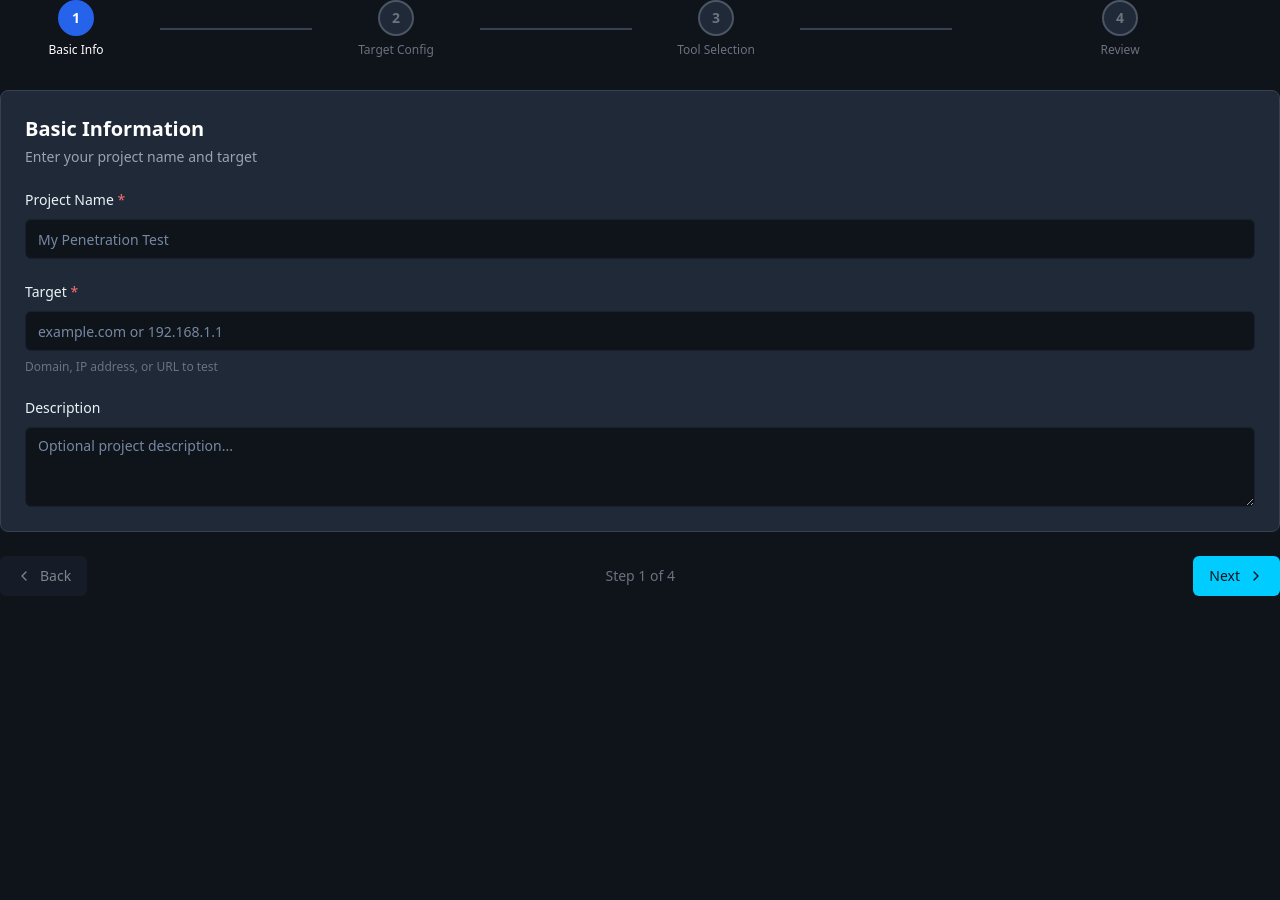
ProjectWizard › shows Back button from step 2 onwards
Type "My Project" into the field labelled "Project Name *" at (640, 239), box left=25, top=219, right=1255, bottom=259
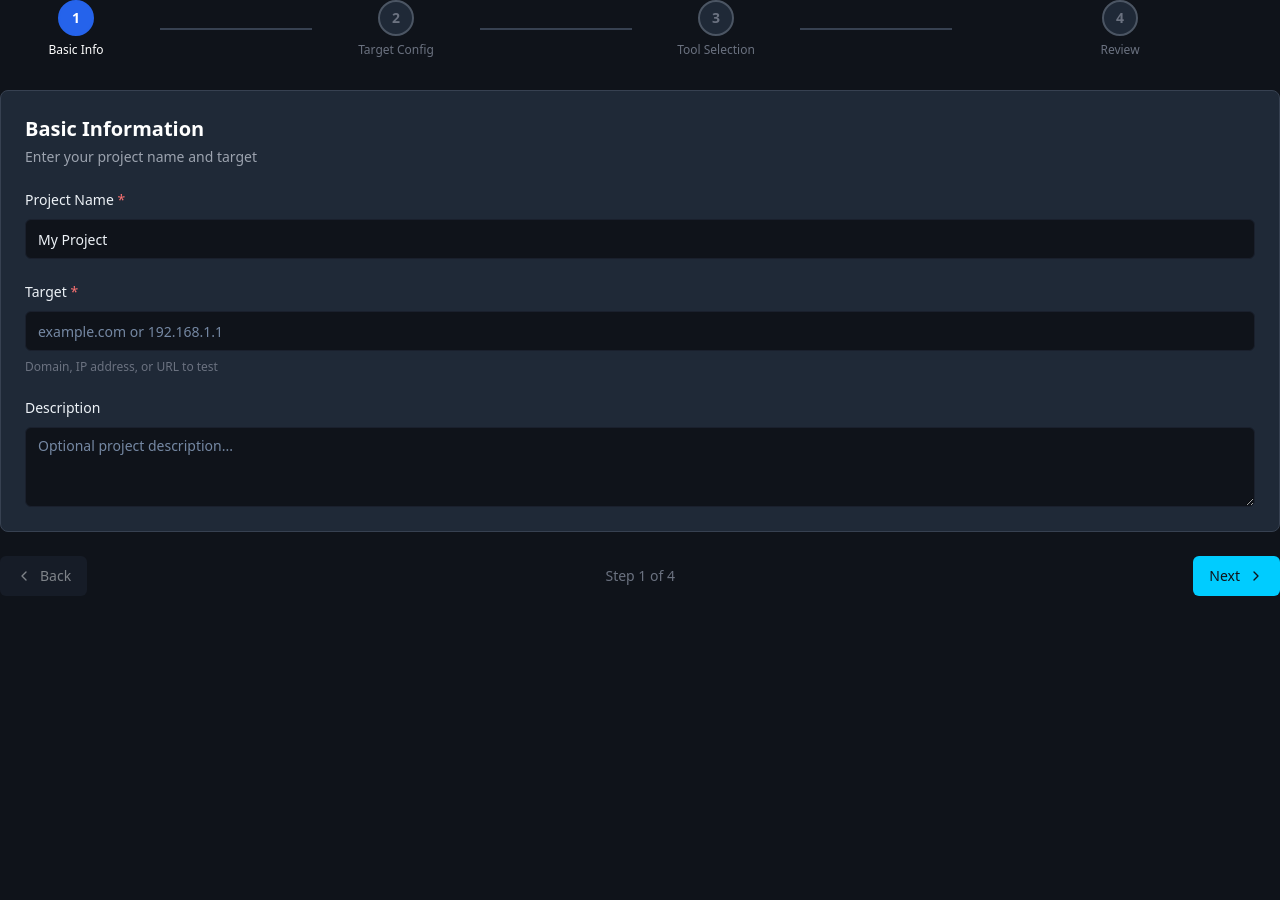
Type "example.com" into the field labelled "Target *" at (640, 331), box left=25, top=311, right=1255, bottom=351
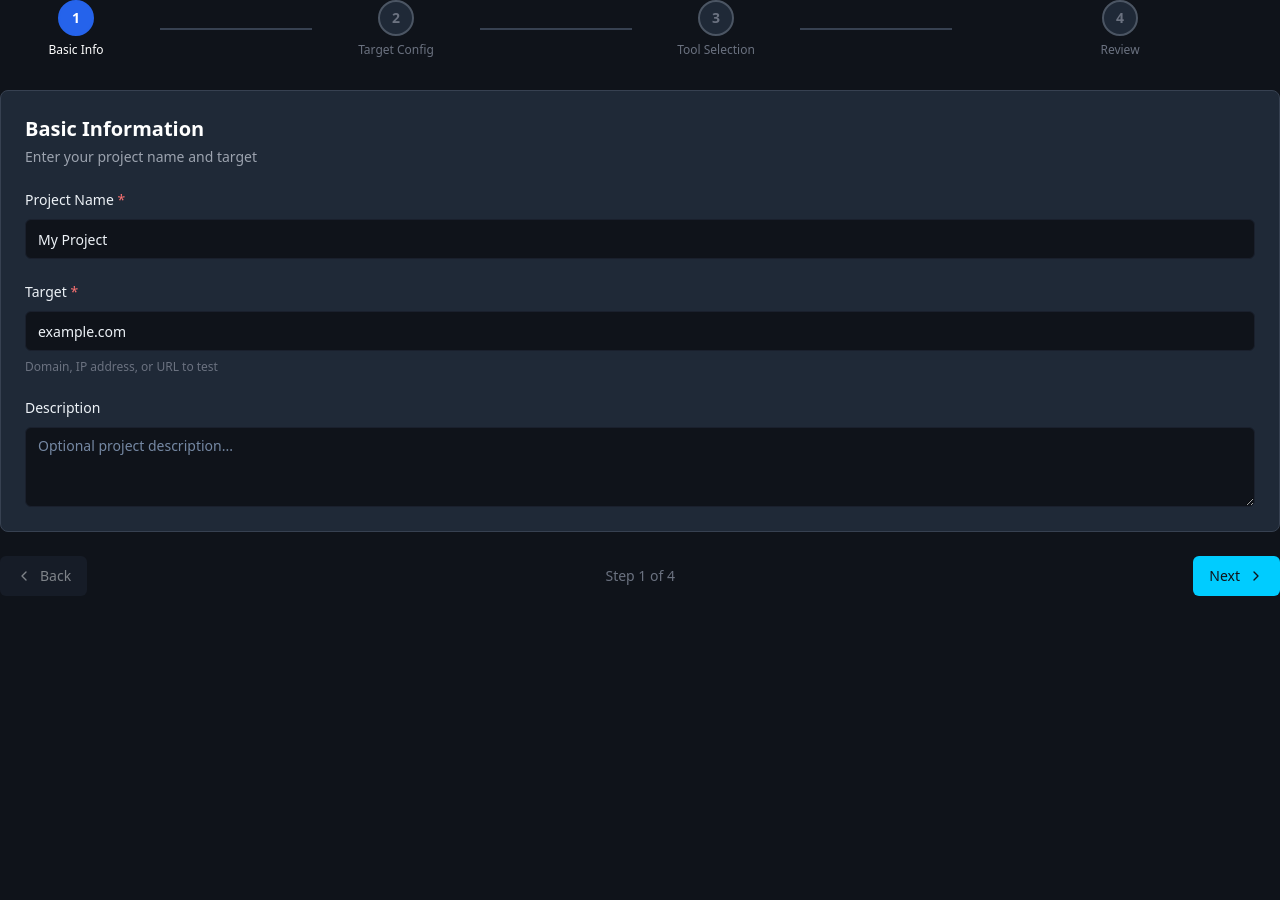
Click the button with aria-label "go to next step" at (1237, 576), box left=1193, top=556, right=1279, bottom=596
(page scrolled)
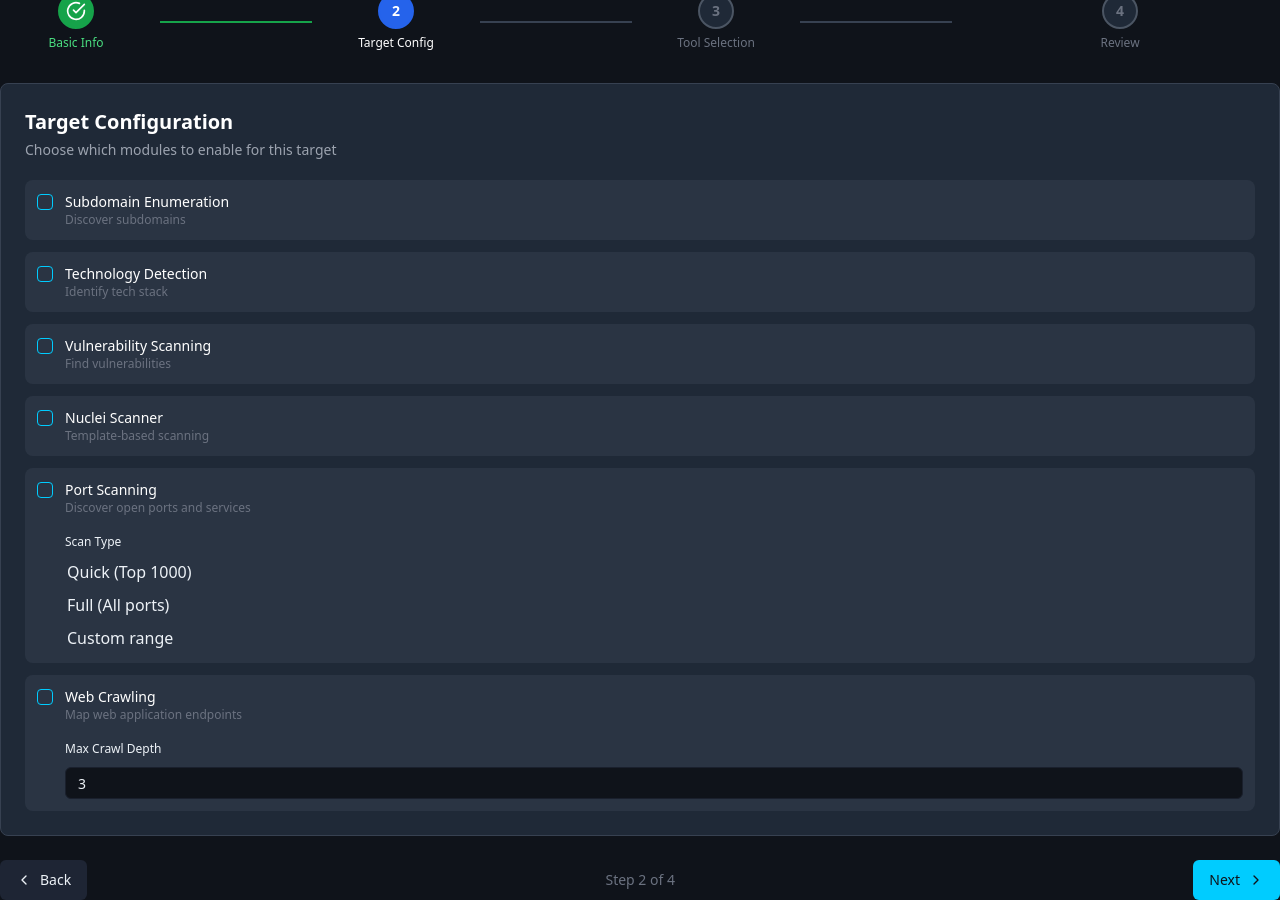
Expected: the button with aria-label "go to previous step" is enabled, left=0, top=860, right=87, bottom=899
